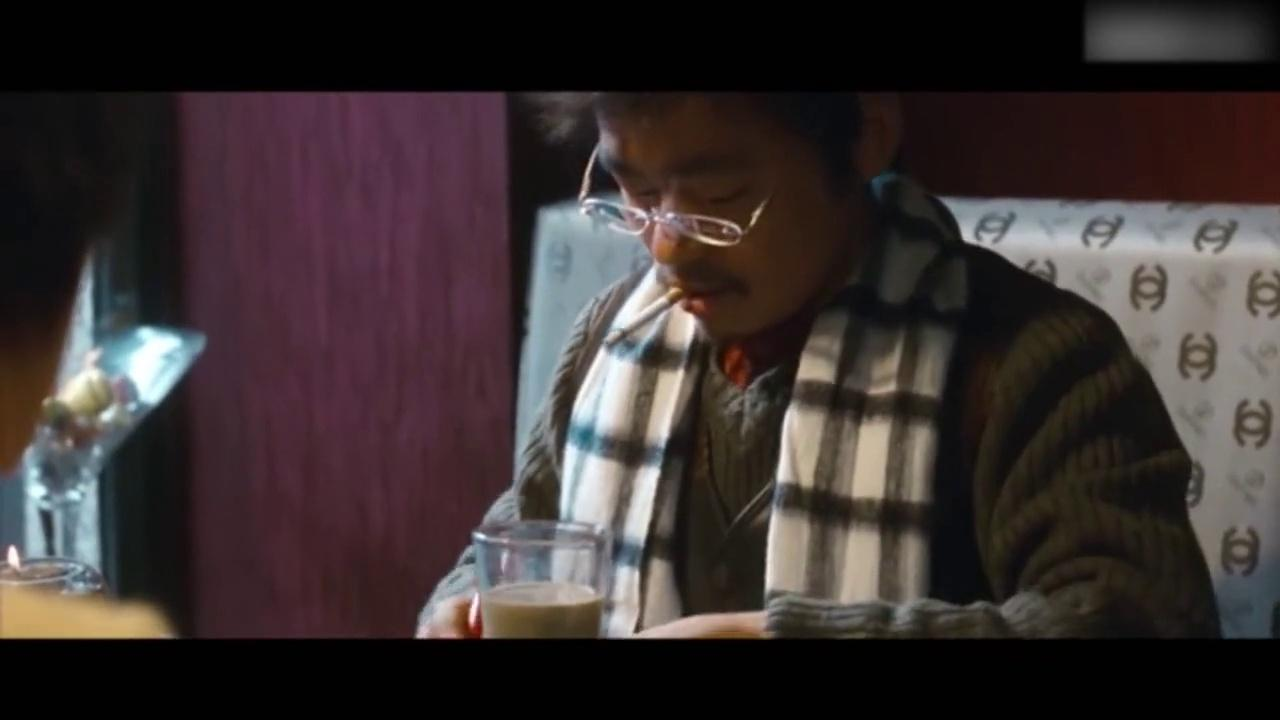smoke: (600, 287, 688, 348)
